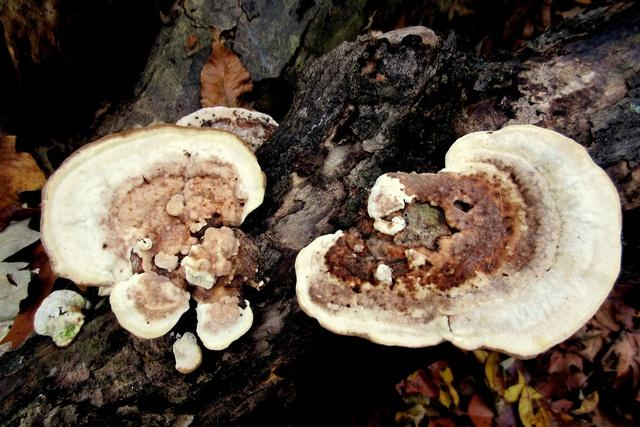poisonous_mushroom: (293, 121, 623, 360), (0, 102, 275, 364)
